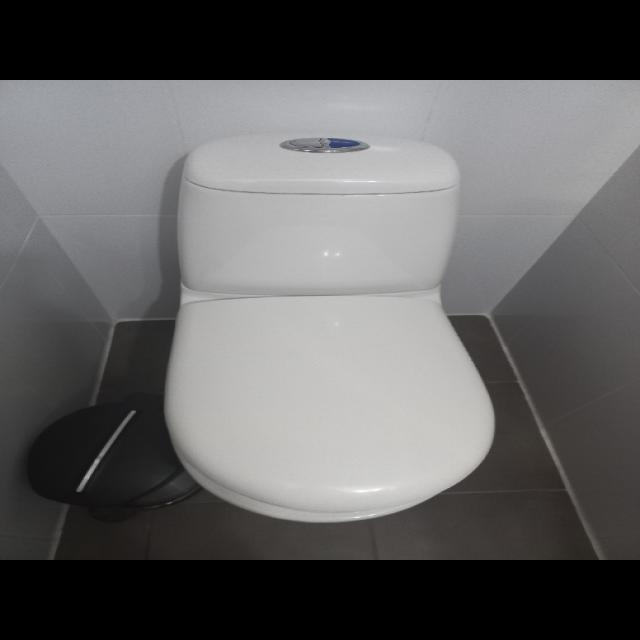toilet: (162, 131, 496, 523)
